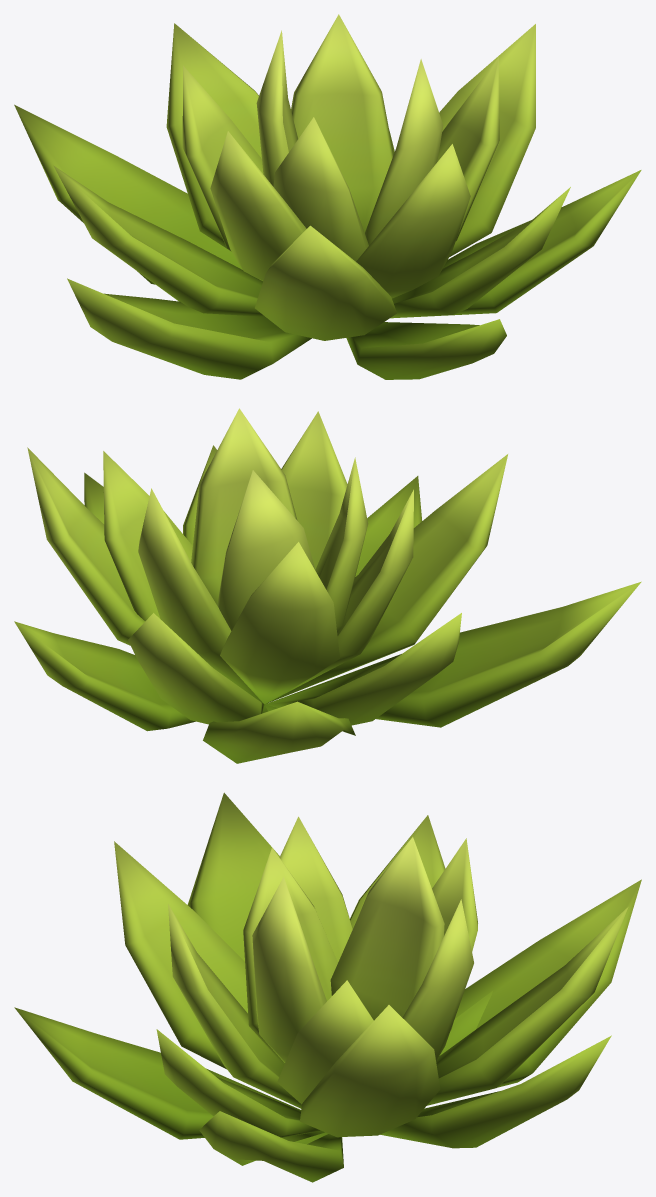
Rendered from Aloe Plant.fbx.
The picture shows the model from 3 angles, top to bottom: view 1: azimuth 30°, elevation 25°; view 2: azimuth 150°, elevation 25°; view 3: azimuth 270°, elevation 25°; orthographic projection. The views are drawn at different scales.
Parts seen in each view (by area): view 1: aloe_plant; view 2: aloe_plant; view 3: aloe_plant.
Part boxes in pixels (box(x1,y1,x2,y2)): aloe_plant: box(14, 14, 641, 379); aloe_plant: box(14, 408, 641, 763); aloe_plant: box(14, 792, 641, 1182).
Size of the model in its own units: 200 by 90.71 by 184.
